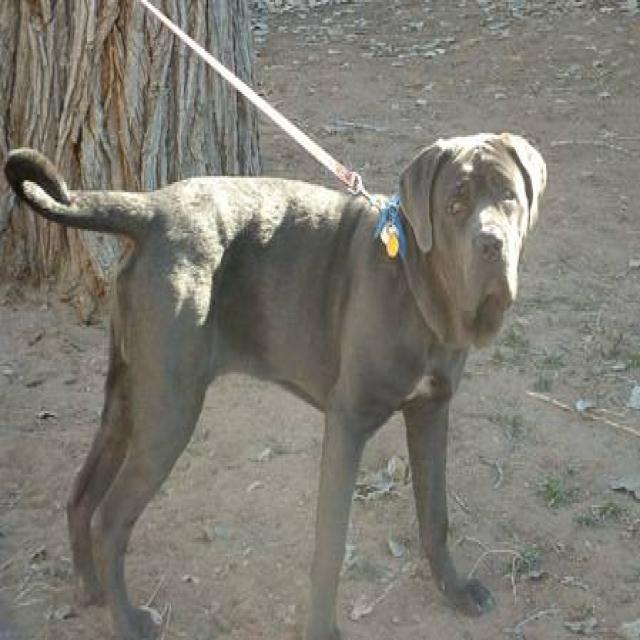dog: (5, 129, 548, 638)
